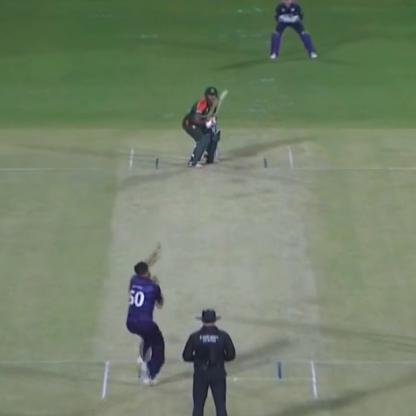bat: (202, 84, 234, 122)
pitch: (96, 138, 329, 414)
